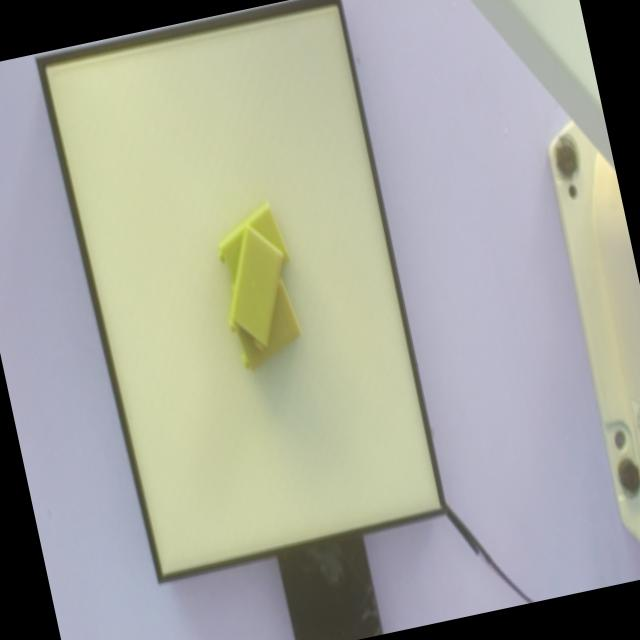bateria: (229, 225, 284, 352)
mesa: (35, 0, 449, 583)
